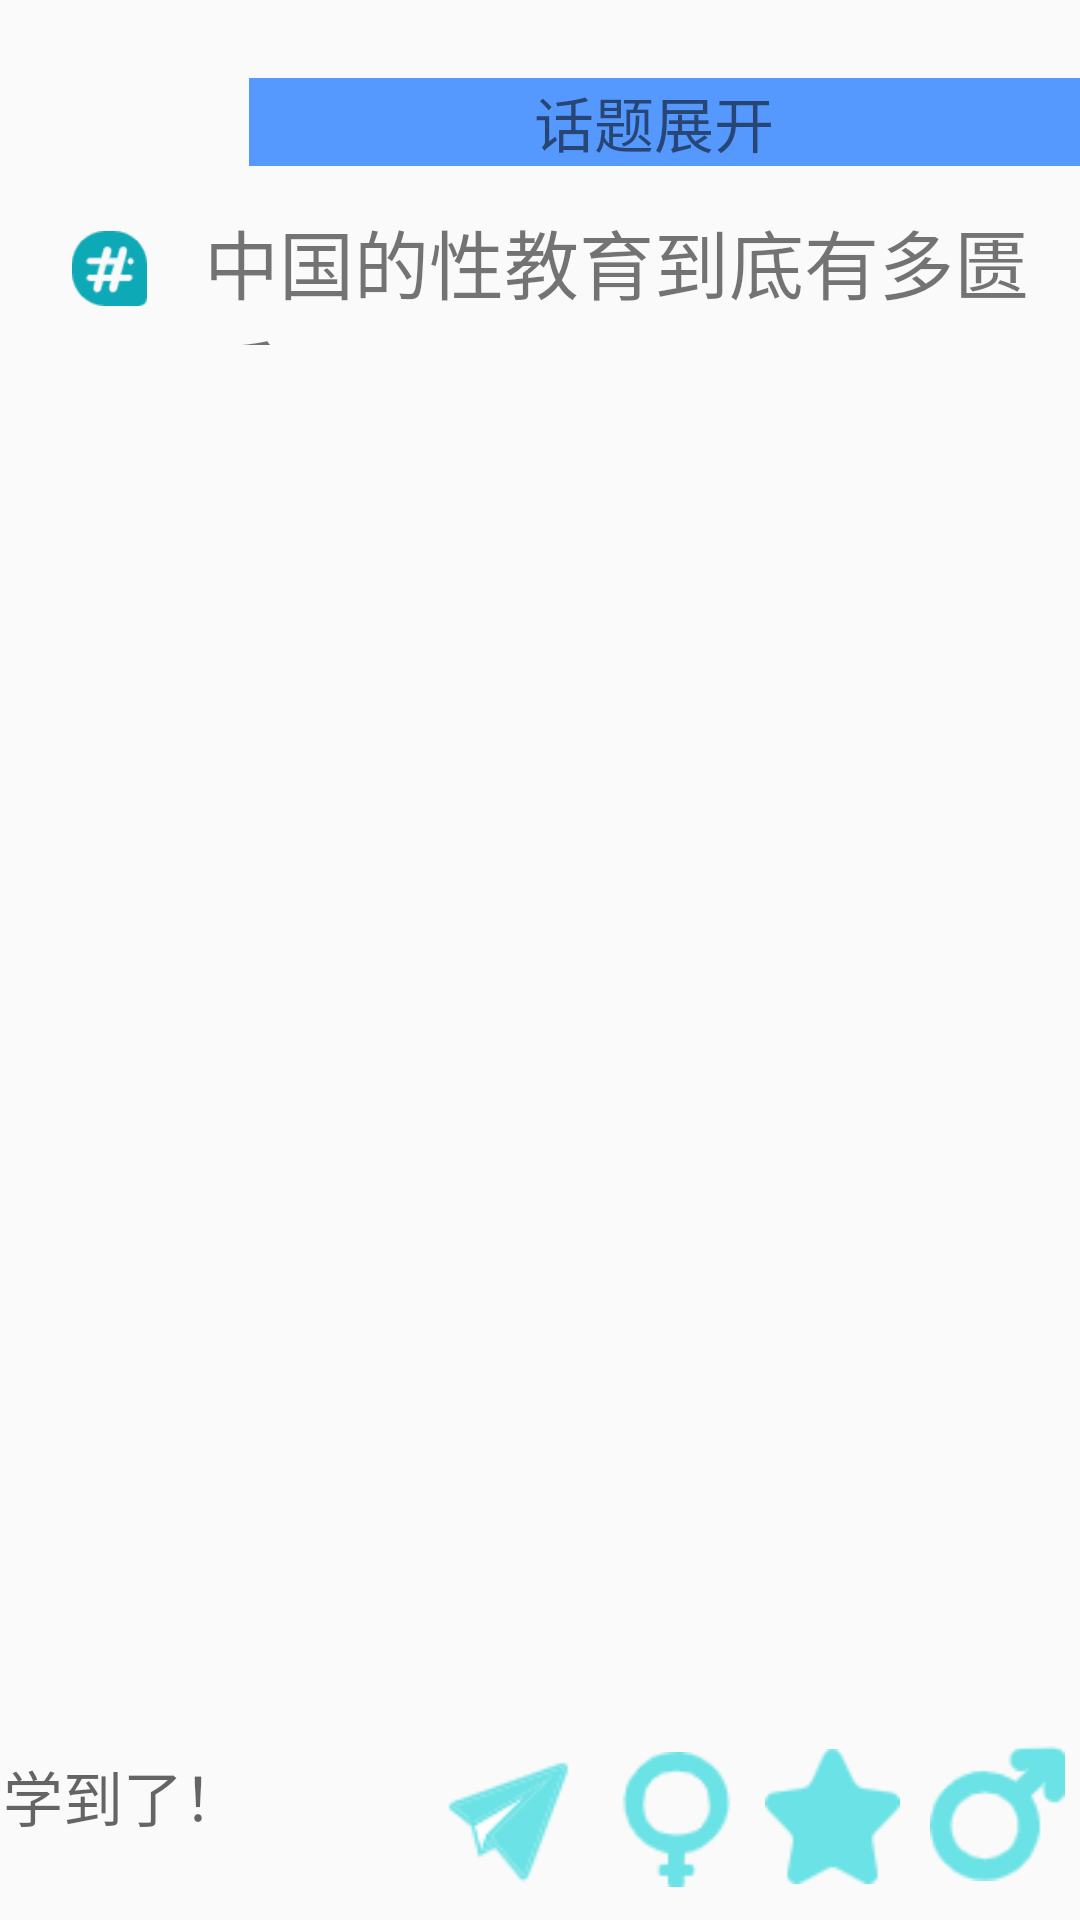

Where icons sit on this 1080 × 1920 app screen, as (x1, y1, x2, y2):
dwp like: (765, 1749, 900, 1884)
dwp send: (449, 1763, 568, 1882)
dwp topic: (72, 231, 147, 306)
